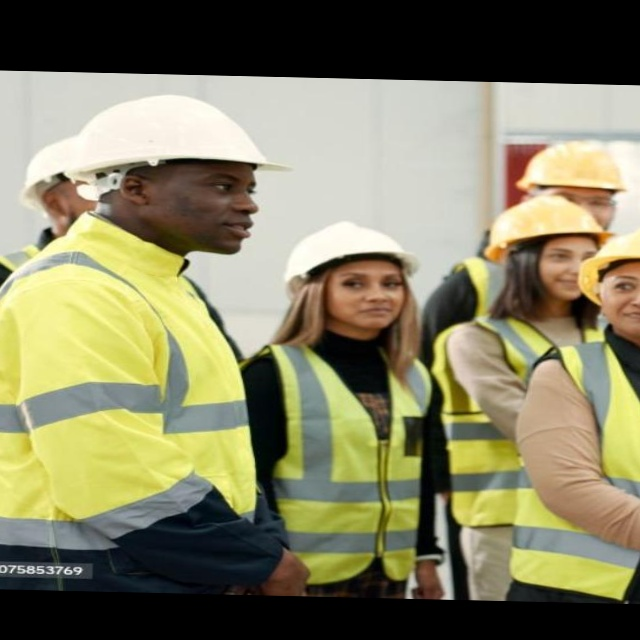Con_Casco: (71, 93, 293, 255), (281, 219, 419, 331), (577, 226, 640, 341)
Con_Chaleco: (0, 248, 250, 565), (228, 340, 442, 584), (512, 342, 640, 597)
